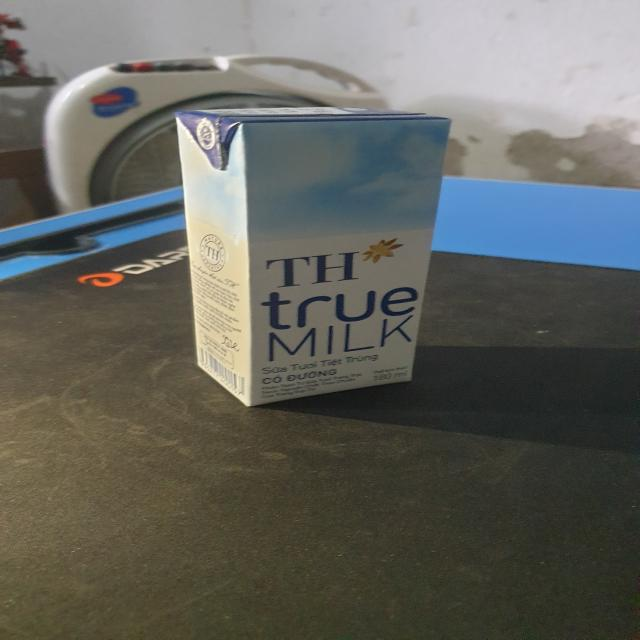TH: (173, 106, 452, 411)
